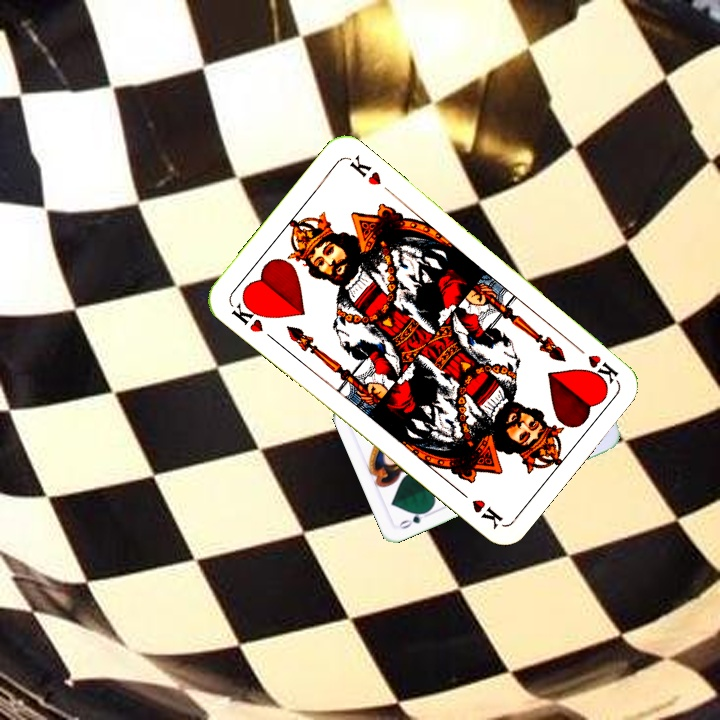GO: (394, 506, 434, 532)
HK: (227, 294, 277, 343), (569, 340, 621, 386)
